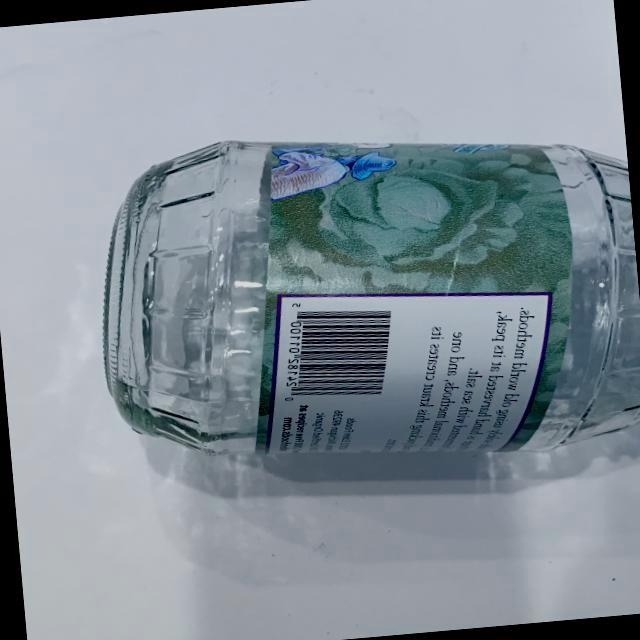glass: (66, 95, 640, 512)
